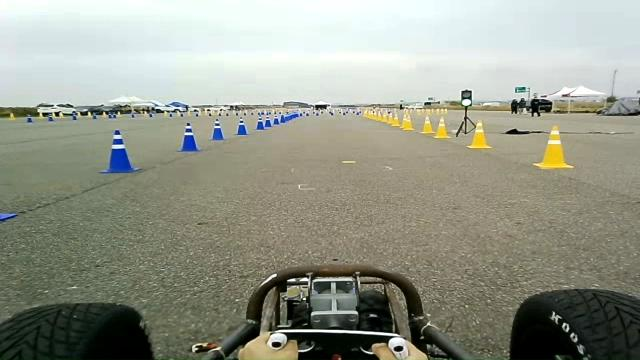blue cone: (98, 129, 142, 173), (177, 121, 200, 152), (208, 118, 226, 140), (235, 117, 249, 135), (282, 111, 300, 123), (0, 212, 18, 222), (255, 115, 265, 130), (262, 114, 272, 127), (272, 116, 280, 125), (264, 120, 272, 128), (280, 114, 286, 123)
yellow cone: (532, 125, 574, 169), (466, 119, 492, 149), (432, 116, 450, 138), (419, 114, 434, 134), (400, 109, 414, 130), (389, 108, 400, 127)
